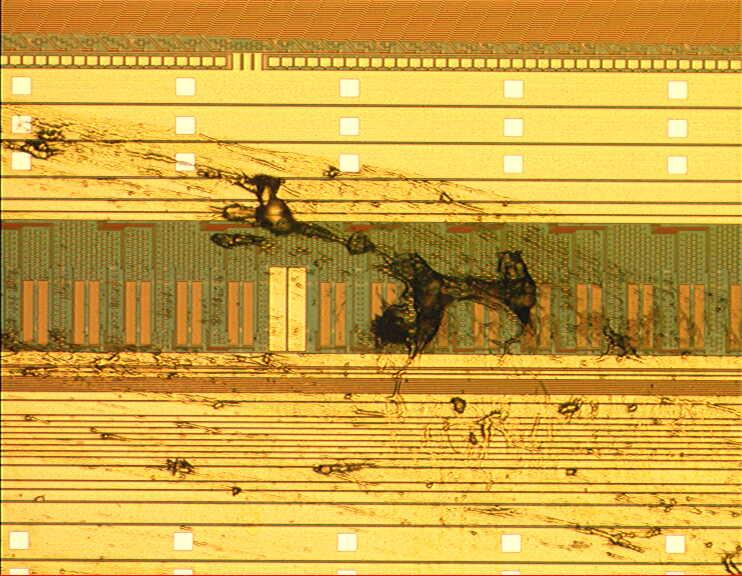PO CONTAMINATION: (1, 99, 742, 576)
